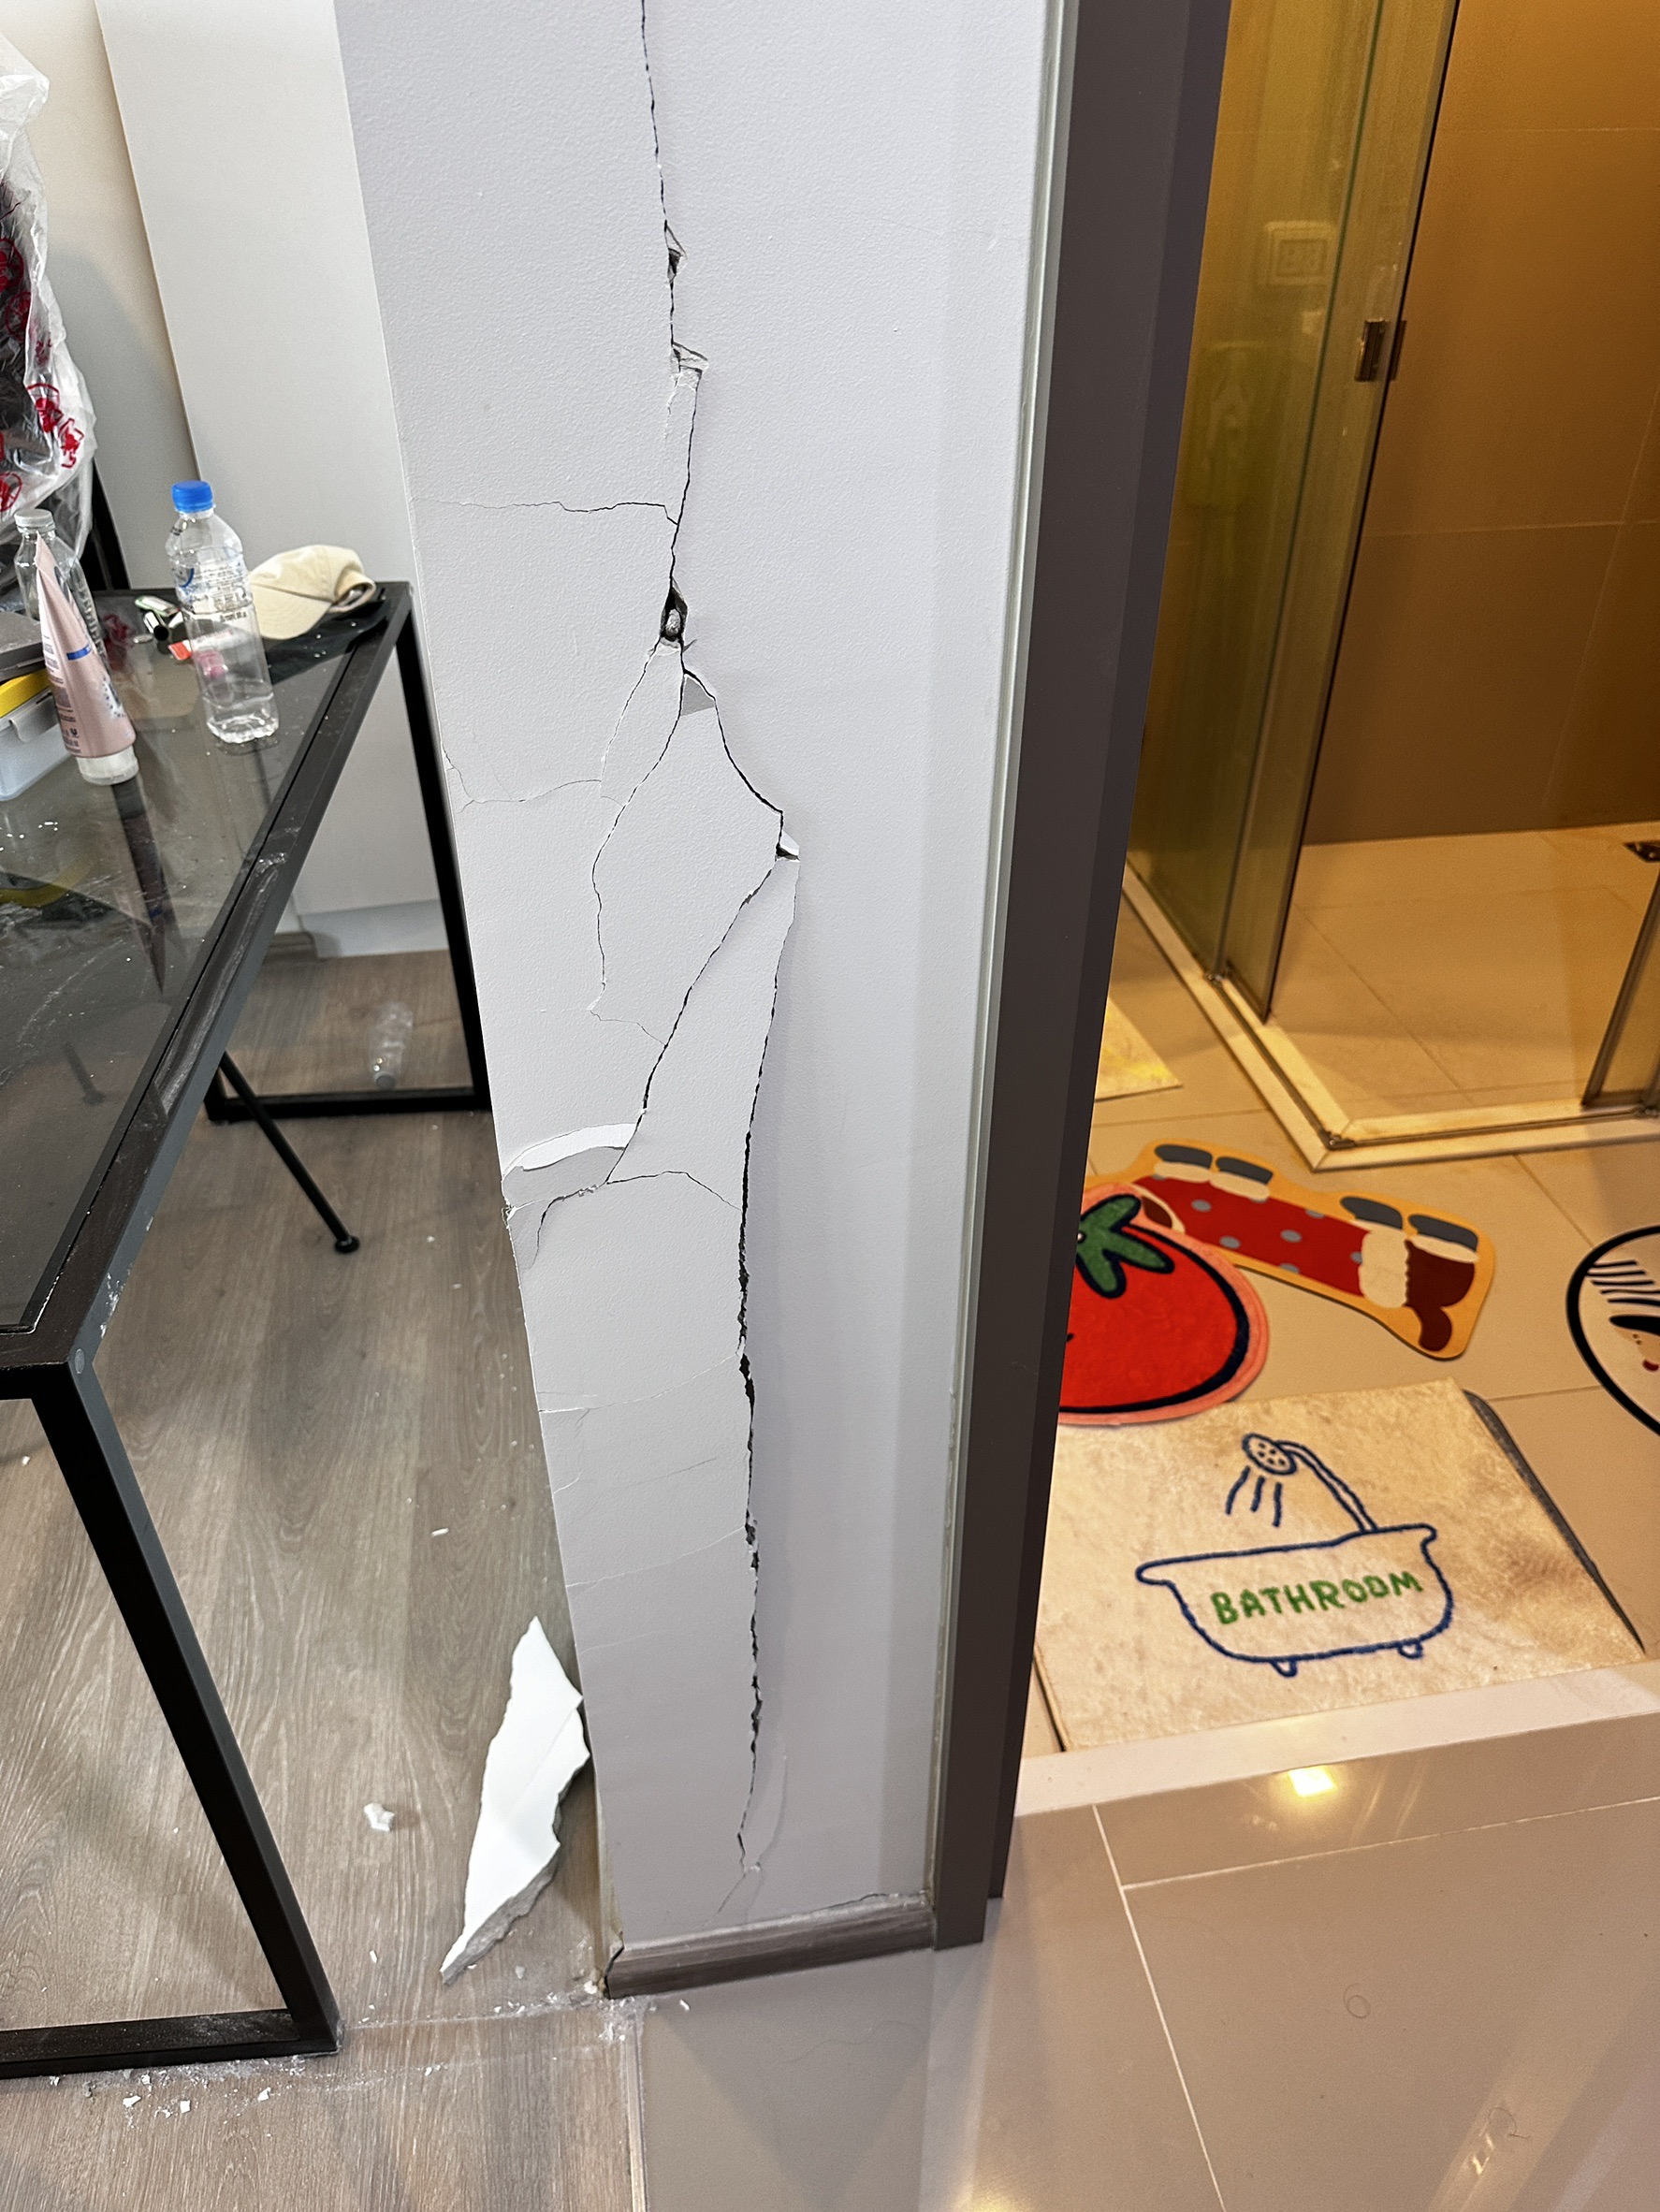High: (551, 2, 875, 1992)
